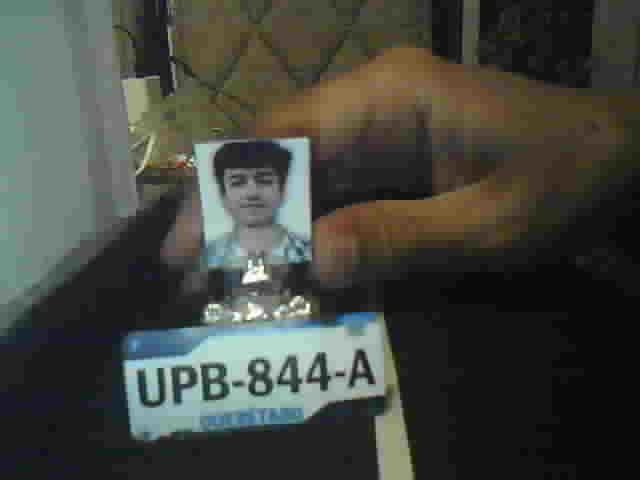PLACA: (117, 310, 385, 445)
ROSTRO: (206, 143, 311, 261)
